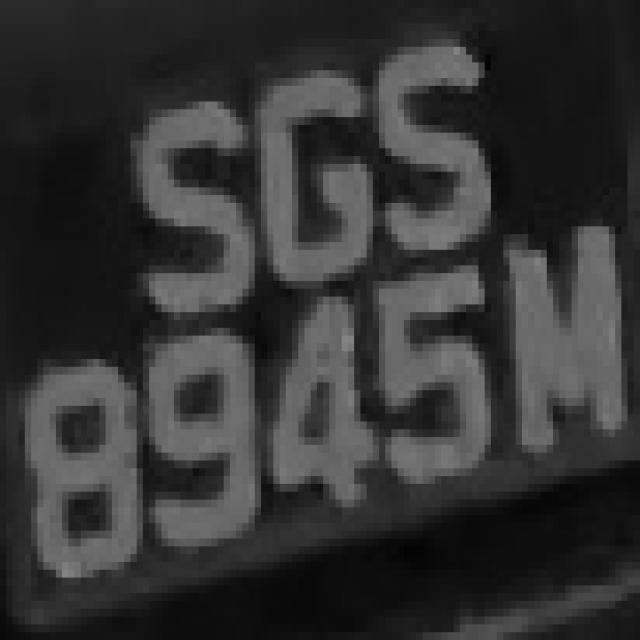4: (249, 281, 379, 523)
5: (360, 281, 497, 507)
8: (13, 336, 149, 554)
9: (118, 313, 267, 546)
G: (224, 78, 366, 297)
M: (491, 203, 640, 453)
S: (354, 16, 510, 242), (106, 109, 254, 336)
